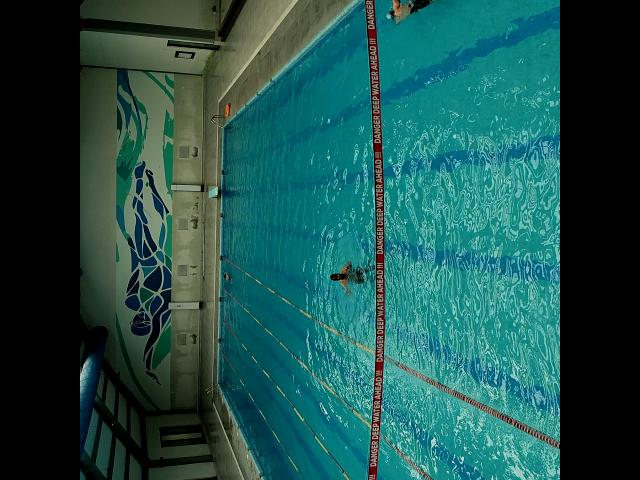swimming: (381, 0, 452, 21), (329, 266, 353, 286), (221, 274, 231, 280)
